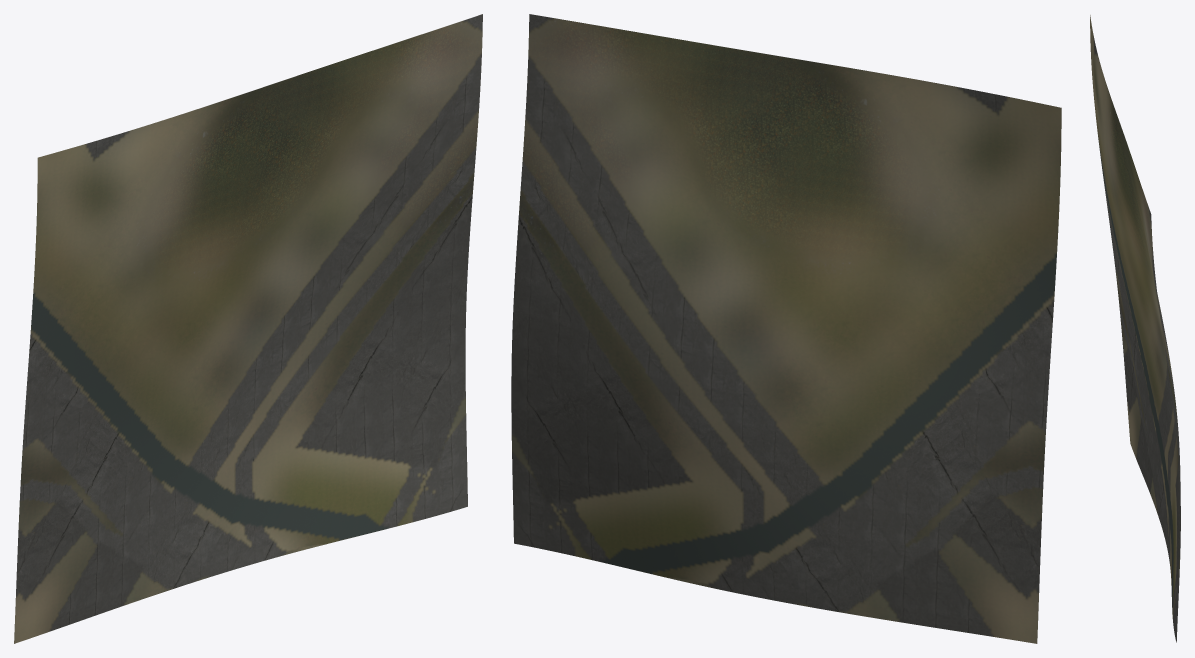
Rendered from ground_core_04_00.obj.
3 renders of one model, left to right at view 1: azimuth 30°, elevation 25°; view 2: azimuth 150°, elevation 25°; view 3: azimuth 270°, elevation 25°, orthographic. The views are drawn at different scales.
Visible parts, largest first — view 1: ground_core_04_00; view 2: ground_core_04_00; view 3: ground_core_04_00.
Part boxes in pixels (<box>): ground_core_04_00: <box>14,14,482,643</box>; ground_core_04_00: <box>511,14,1061,643</box>; ground_core_04_00: <box>1090,15,1180,642</box>.
Bounding box in the file's own units: 50 × 50 × 9.58.
Materials: 1 (1 with a texture image).
